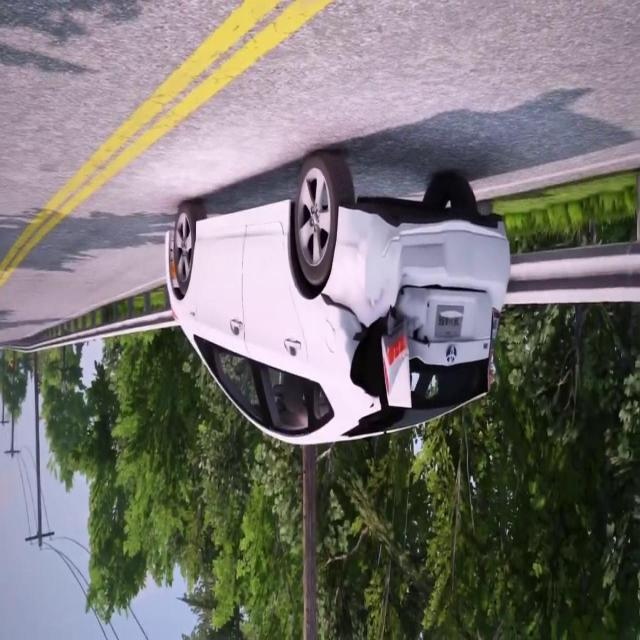moderate: (160, 143, 516, 458)
